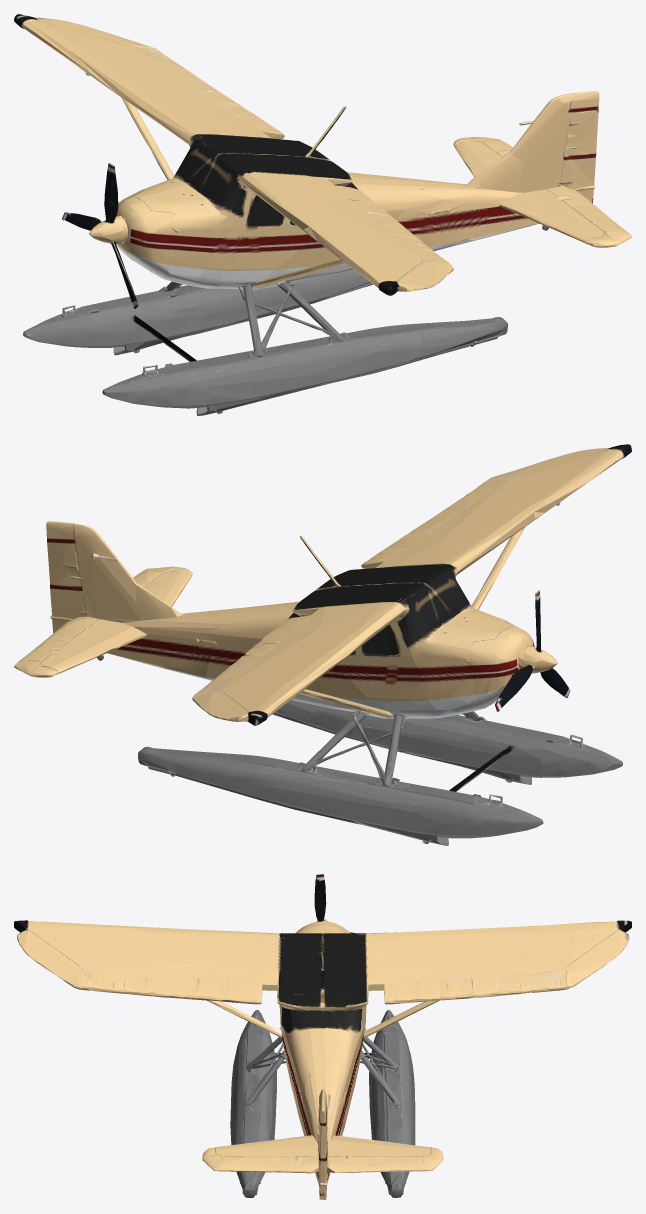
3 renders of one model, top to bottom at view 1: azimuth 30°, elevation 25°; view 2: azimuth 150°, elevation 25°; view 3: azimuth 270°, elevation 25°, orthographic. The views are drawn at different scales.
Bounding box in the file's own units: 1.57 × 0.6582 × 1.9.
Materials: 1 (1 with a texture image).
